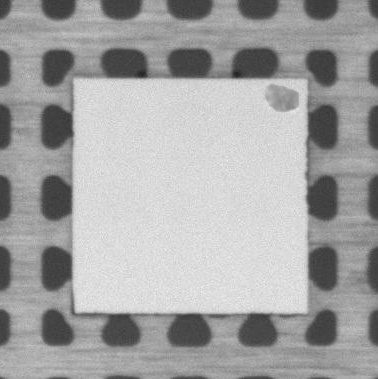DIE_INK: (263, 82, 301, 113)
